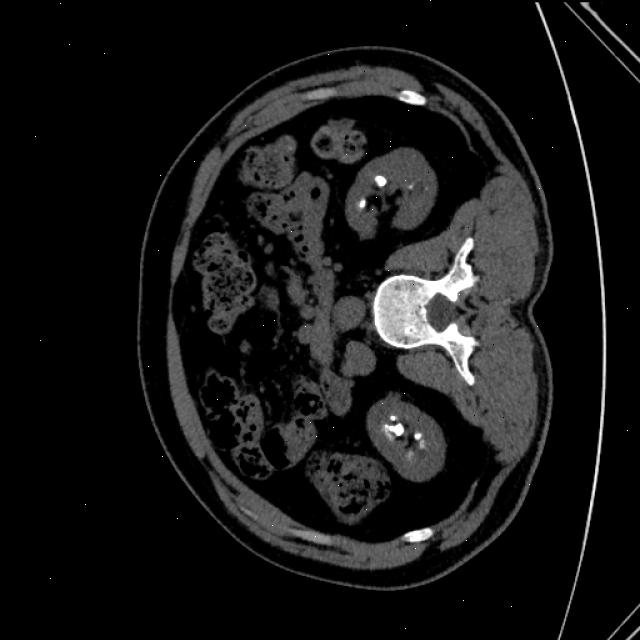kidneystone: (385, 421, 404, 436), (374, 174, 387, 186), (359, 199, 367, 208), (390, 415, 397, 421)
